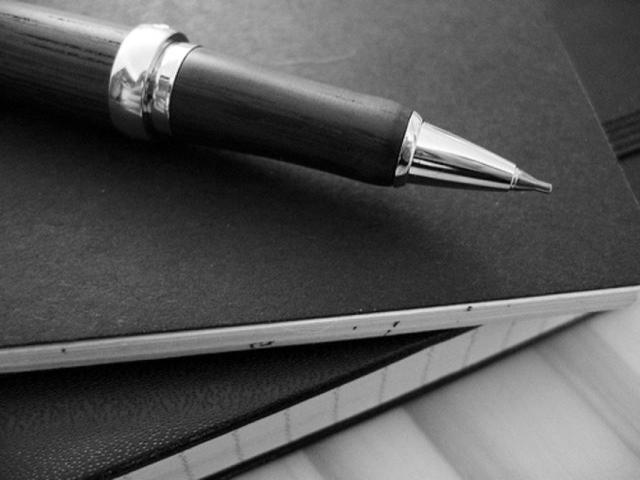PEN: (0, 1, 559, 202)
